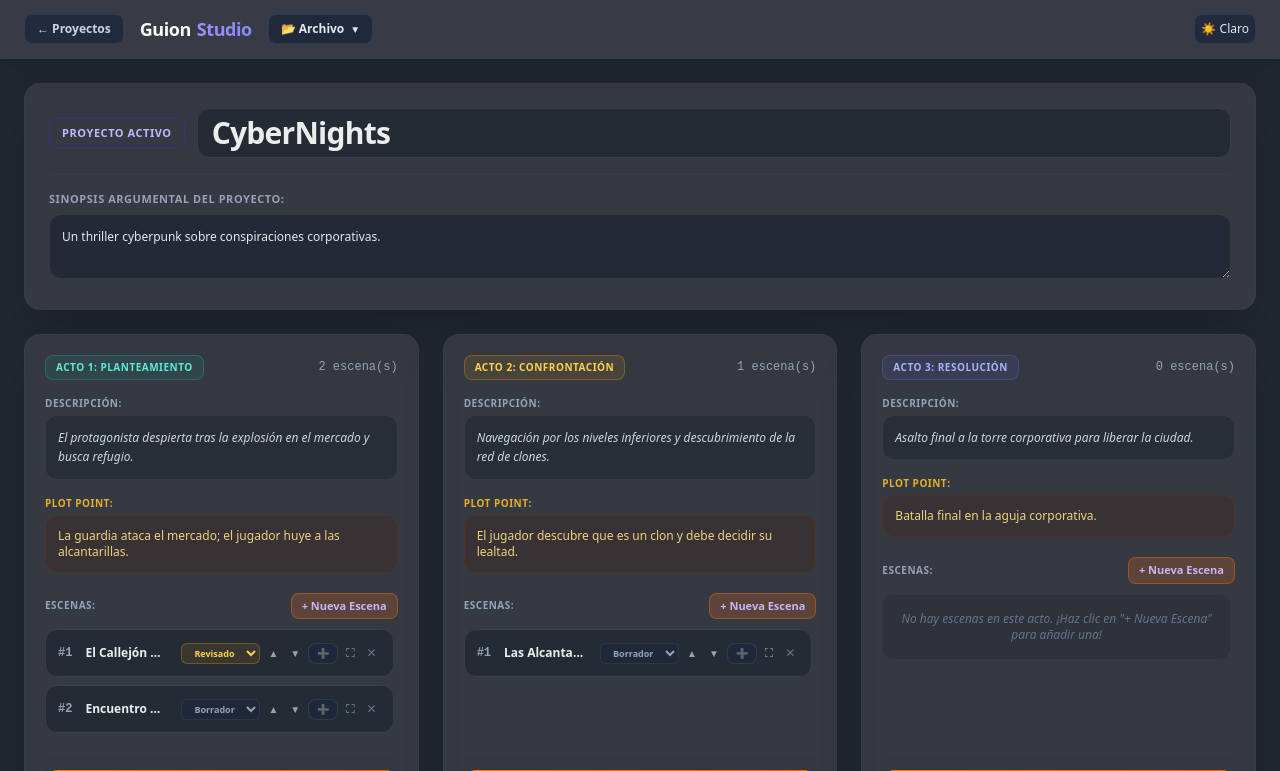
Test case: GuionStudio App & Unified Script Dashboard › persists edited project title and synopsis on the Dashboard list
Replace the text in the field showing "CyberNights" with "CyberNights 2077" at (714, 133), box [197,108,1231,158]
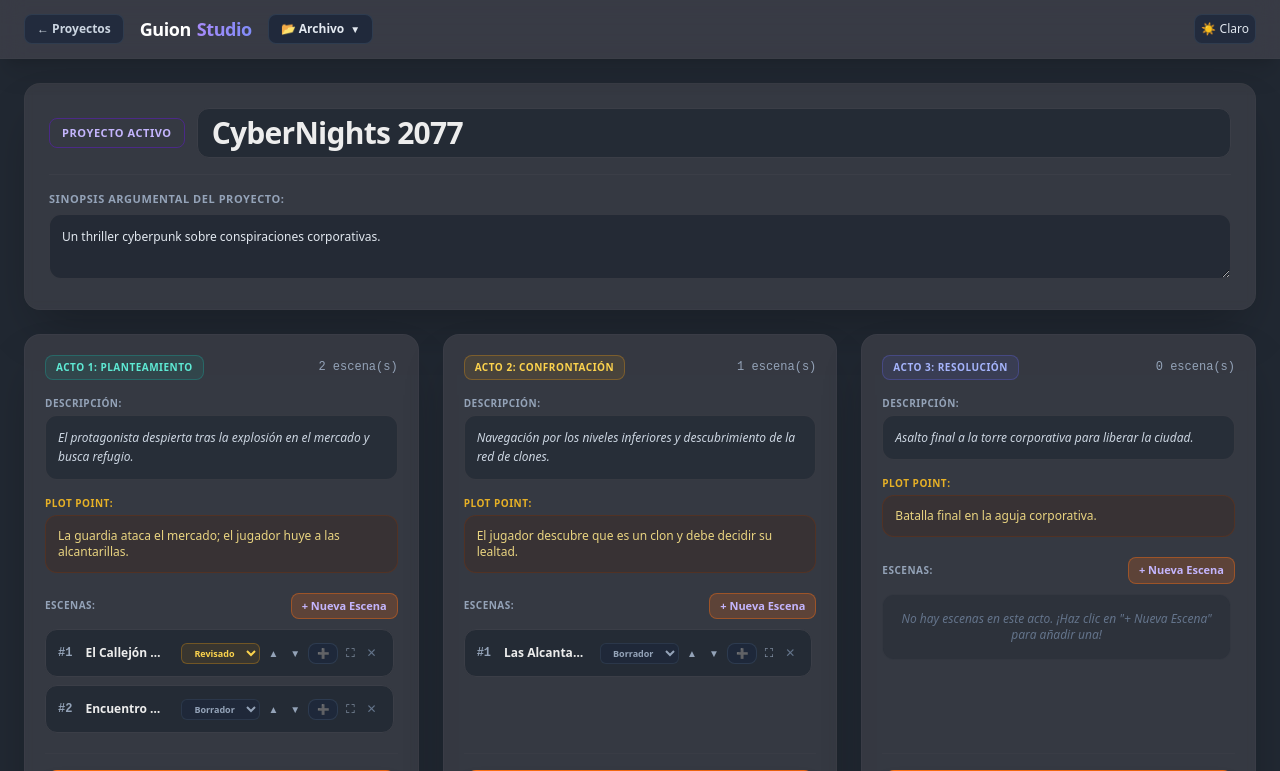
Replace the text in the text box showing "Un thriller cyberpunk sobre conspiraciones corporativas" with "Nueva sinopsis de CyberNights en el futuro" at (640, 246), box [49,214,1231,278]
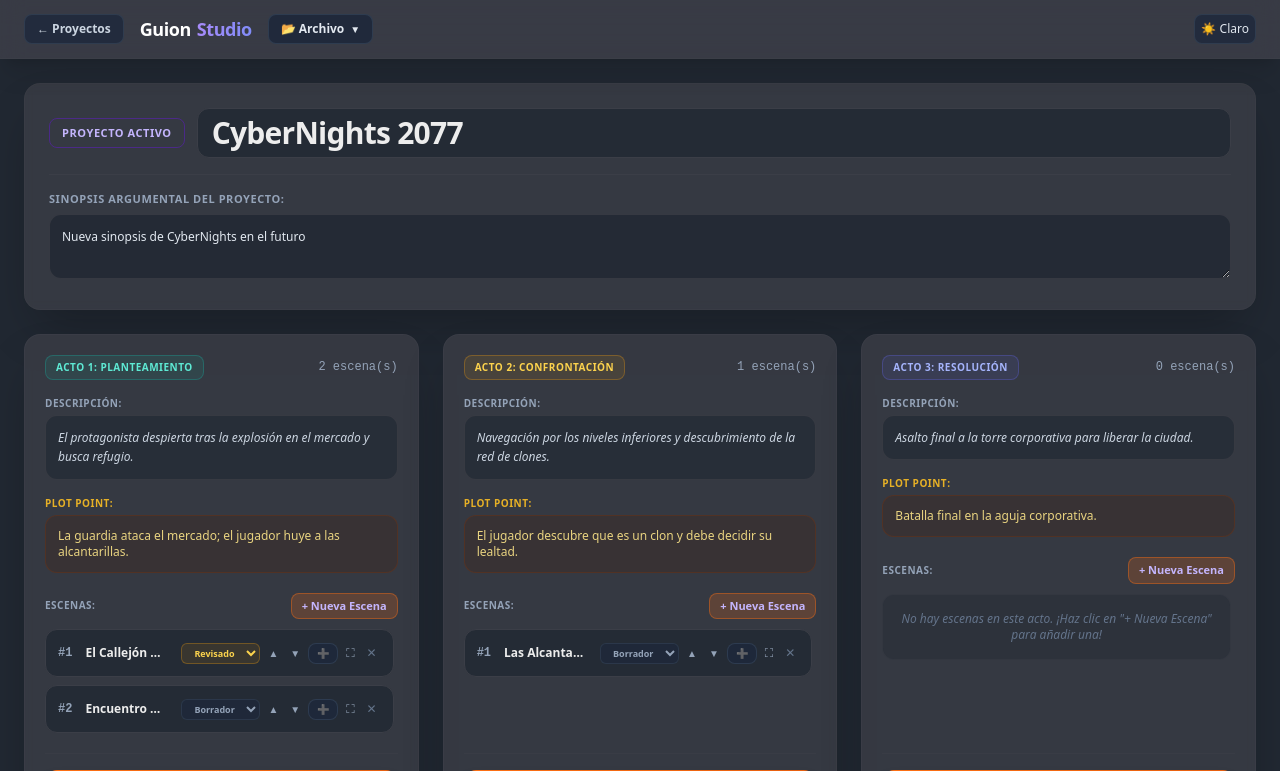
Navigate back to Dashboard
Click the button "← Proyectos" at (74, 29), box [24,14,124,44]
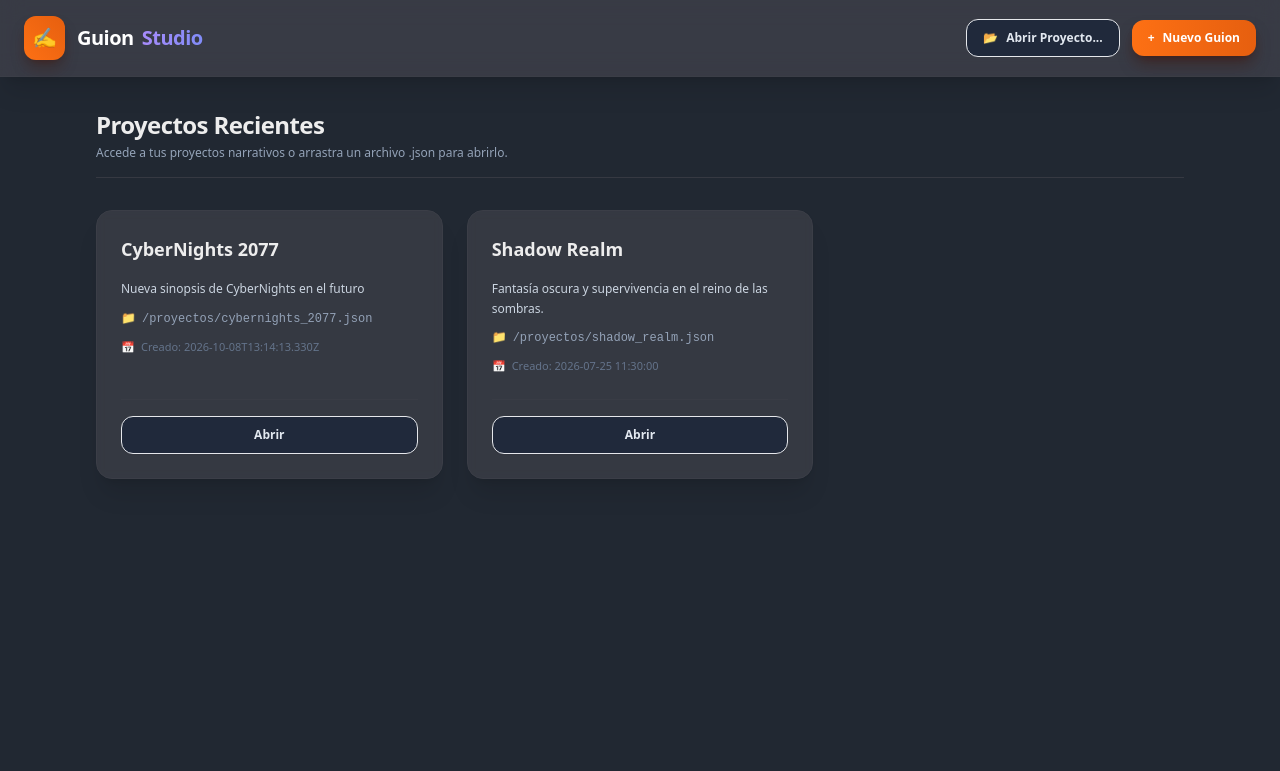
Now the heading "CyberNights 2077" is shown, box [121,235,303,263]
Now the text "Nueva sinopsis de CyberNights en el futuro" is shown, box [121,280,364,297]
